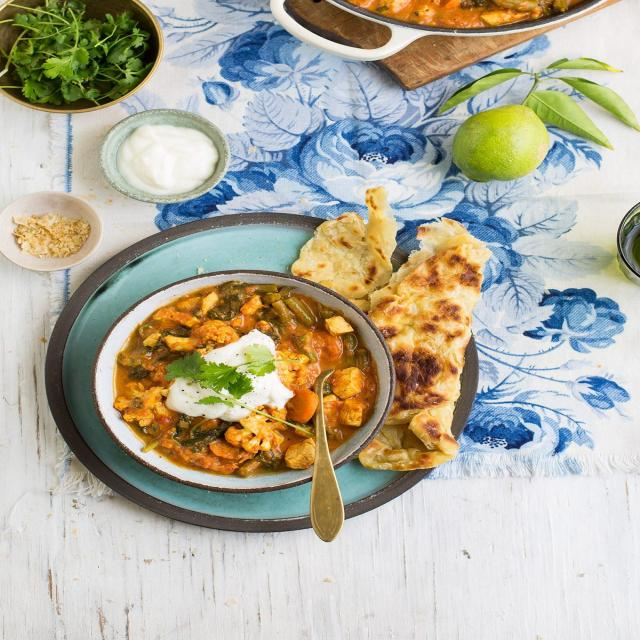chicken: (90, 279, 387, 489), (333, 5, 590, 41)
roti: (317, 212, 472, 475)
